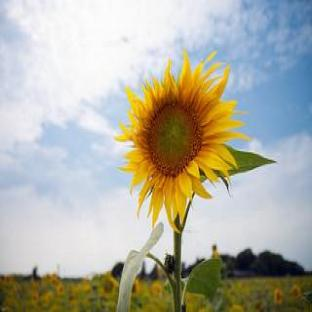sunflower: (113, 50, 277, 236)
